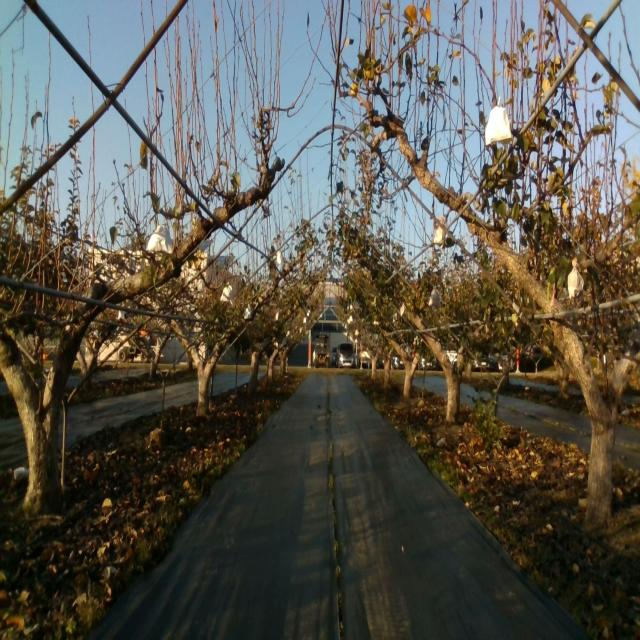pearbags: (485, 96, 515, 149), (147, 220, 175, 255), (567, 258, 585, 298), (220, 282, 233, 306), (433, 224, 445, 246), (428, 288, 441, 308)
